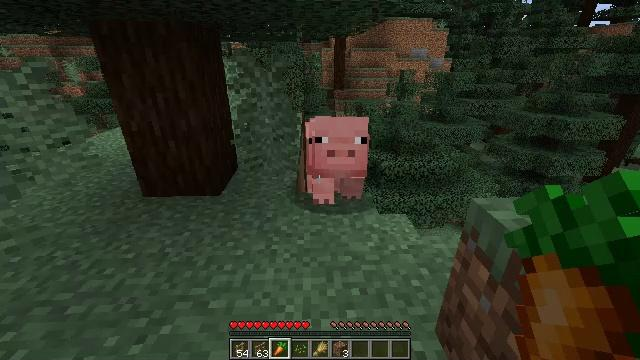pig: (306, 117, 369, 206)
